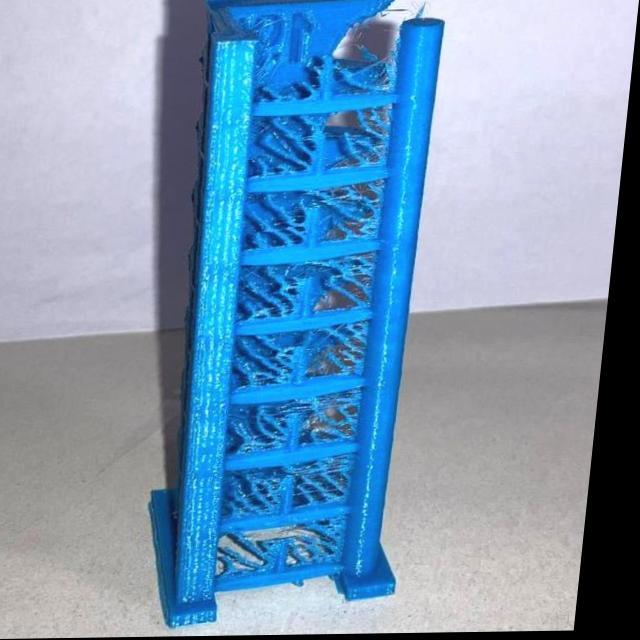stringing: (326, 191, 386, 247), (306, 326, 380, 371), (232, 339, 300, 386), (254, 125, 318, 172), (252, 203, 314, 250), (344, 113, 401, 164), (243, 272, 306, 317), (298, 466, 364, 506), (311, 404, 372, 447), (229, 532, 284, 574), (232, 472, 294, 508), (244, 410, 292, 456), (330, 262, 378, 304), (306, 525, 356, 562)
